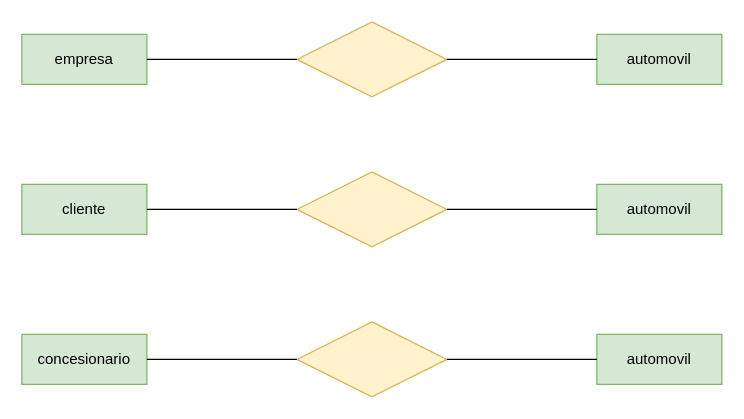
Image size: 744x419. Some labels were removed from this diagram. Each missing label, with the box of its shape:
comprar: (296, 171, 447, 247)
revision: (296, 321, 447, 397)
venta: (296, 21, 447, 97)
